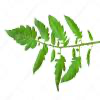Tomato leaf: (4, 24, 38, 51), (47, 14, 69, 46), (61, 54, 81, 84), (63, 14, 83, 43), (31, 46, 46, 75), (33, 19, 50, 44), (55, 54, 65, 93)
